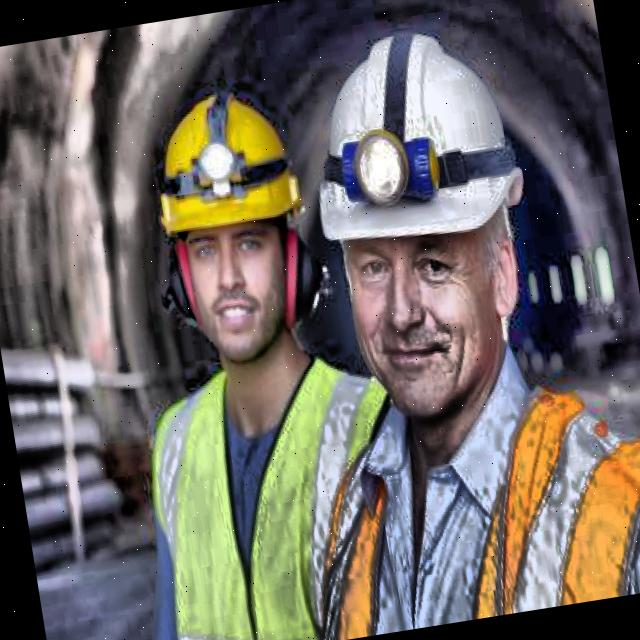helmet: (289, 0, 578, 467), (126, 62, 332, 388)
